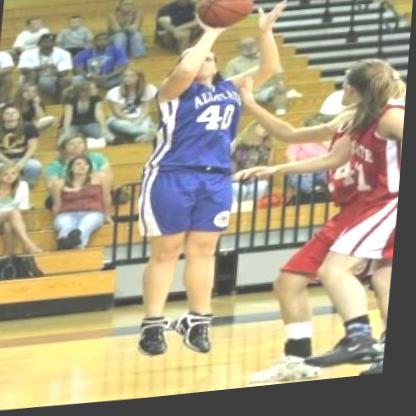basketball: (193, 0, 260, 37)
